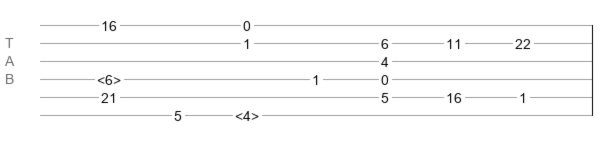0: (243, 18, 251, 28), (381, 72, 389, 82)
1: (243, 36, 251, 46), (312, 72, 320, 82), (519, 90, 527, 100)
11: (446, 36, 462, 46)
16: (101, 18, 117, 28), (446, 90, 462, 100)
21: (101, 90, 117, 100)
22: (515, 36, 531, 46)
4: (381, 54, 389, 64)
5: (174, 108, 182, 118), (381, 90, 389, 100)
6: (381, 36, 389, 46)
harmonic: (97, 72, 121, 82), (235, 108, 259, 118)
